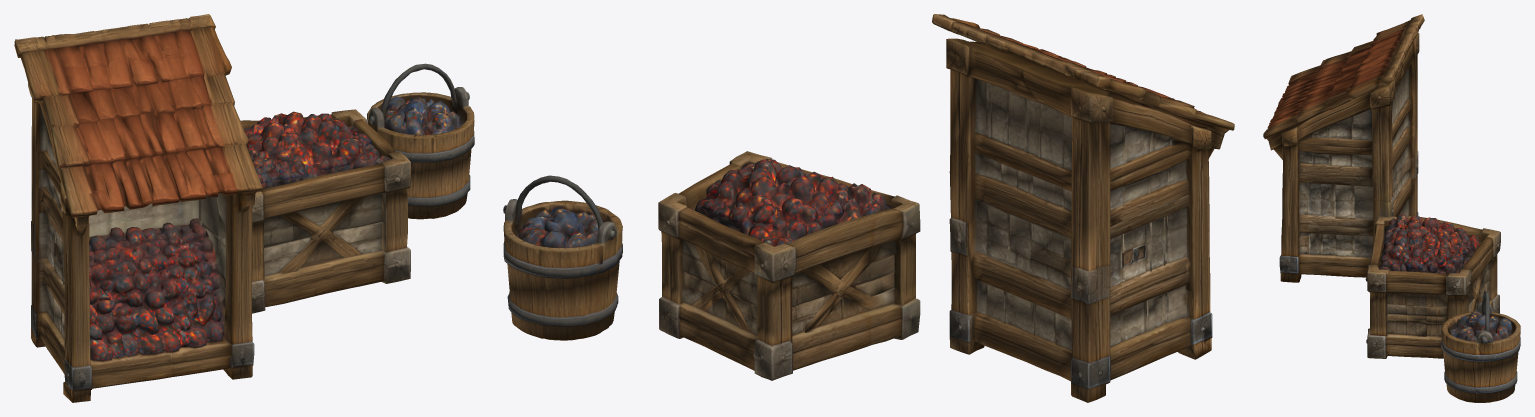
File: cluster of three small smooth grey pebb… #145.glb
The picture shows the model from 3 angles, left to right: view 1: azimuth 30°, elevation 25°; view 2: azimuth 150°, elevation 25°; view 3: azimuth 270°, elevation 25°; orthographic projection. The views are drawn at different scales.
Parts seen in each view (by area): view 1: tripo_node_4c4364c6-e64b-4059-b9c7-58eeae1b4c1f; view 2: tripo_node_4c4364c6-e64b-4059-b9c7-58eeae1b4c1f; view 3: tripo_node_4c4364c6-e64b-4059-b9c7-58eeae1b4c1f.
Part boxes in pixels (x1,y1,x2,y2): tripo_node_4c4364c6-e64b-4059-b9c7-58eeae1b4c1f: (14, 14, 474, 402); tripo_node_4c4364c6-e64b-4059-b9c7-58eeae1b4c1f: (503, 14, 1234, 402); tripo_node_4c4364c6-e64b-4059-b9c7-58eeae1b4c1f: (1263, 14, 1520, 402).
Size of the model in its own units: 0.9781 by 0.534 by 0.5684.
Materials: 1 (1 with a texture image).
